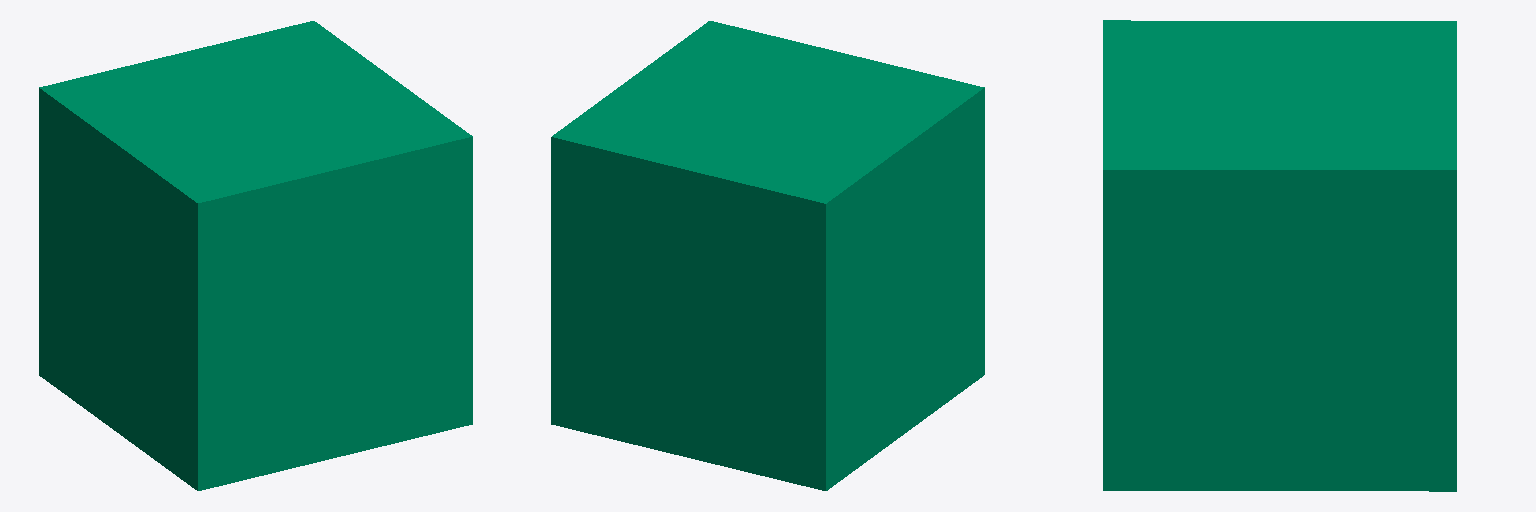
robot.urdf — example:
<?xml version="1.0" ?>
<robot name="example">
<link name="tool0"/>
<link name="base_link" />

<link name="link_1">
  <visual>
    <origin xyz="0 0 0" rpy="1.57 0 0"/>
      <geometry>
        <box size="0.1 0.1 0.1"/>
      </geometry>
  </visual>
</link>

<joint name="joint_1" type="revolute">
  <parent link="base_link" />
  <child link="link_1" />
  <limit effort="30" velocity="1.0" lower="-1.570795" upper="1.570795" />
  <origin xyz="0 0 0" rpy="0 0 0" />
  <axis xyz="1 0 0" />
</joint>

<joint name="joint_t" type="fixed">
  <parent link="link_1" />
  <child link="tool0" />
  <origin xyz="0 0 0" rpy="0 0 0" />
</joint>

</robot>

--- Render facts (derived) ---
Views: 3 orthographic renders of the robot side by side, from view 1: azimuth 30°, elevation 25°; view 2: azimuth 150°, elevation 25°; view 3: azimuth 270°, elevation 25°.
Model example with 3 links and 2 joints (1 revolute, 1 fixed), rooted at base_link, posed every joint at zero.
Links seen in each view (by area): view 1: link_1; view 2: link_1; view 3: link_1.
Boxes of the visible links, <box> form: link_1: <box>39,21,472,490</box>; link_1: <box>551,21,984,490</box>; link_1: <box>1103,20,1456,491</box>.
Size in the robot's own frame: 0.1 by 0.1001 by 0.1001 metres.
Geometry: primitives only (box / cylinder / sphere), no mesh files.